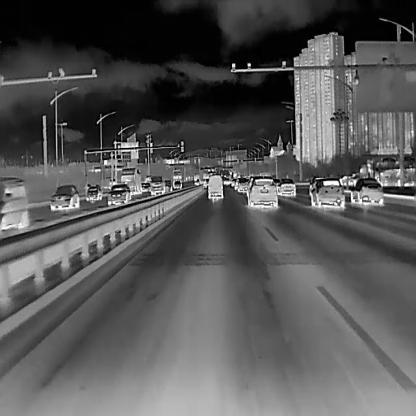car: (0, 179, 30, 228), (310, 178, 345, 208), (246, 175, 277, 207), (350, 178, 383, 205), (50, 183, 79, 210), (121, 167, 141, 194), (107, 184, 130, 204), (276, 176, 295, 196), (207, 175, 222, 199), (149, 174, 164, 194), (85, 184, 101, 200), (171, 168, 181, 188), (236, 178, 247, 192), (163, 179, 171, 191), (141, 182, 150, 190)
